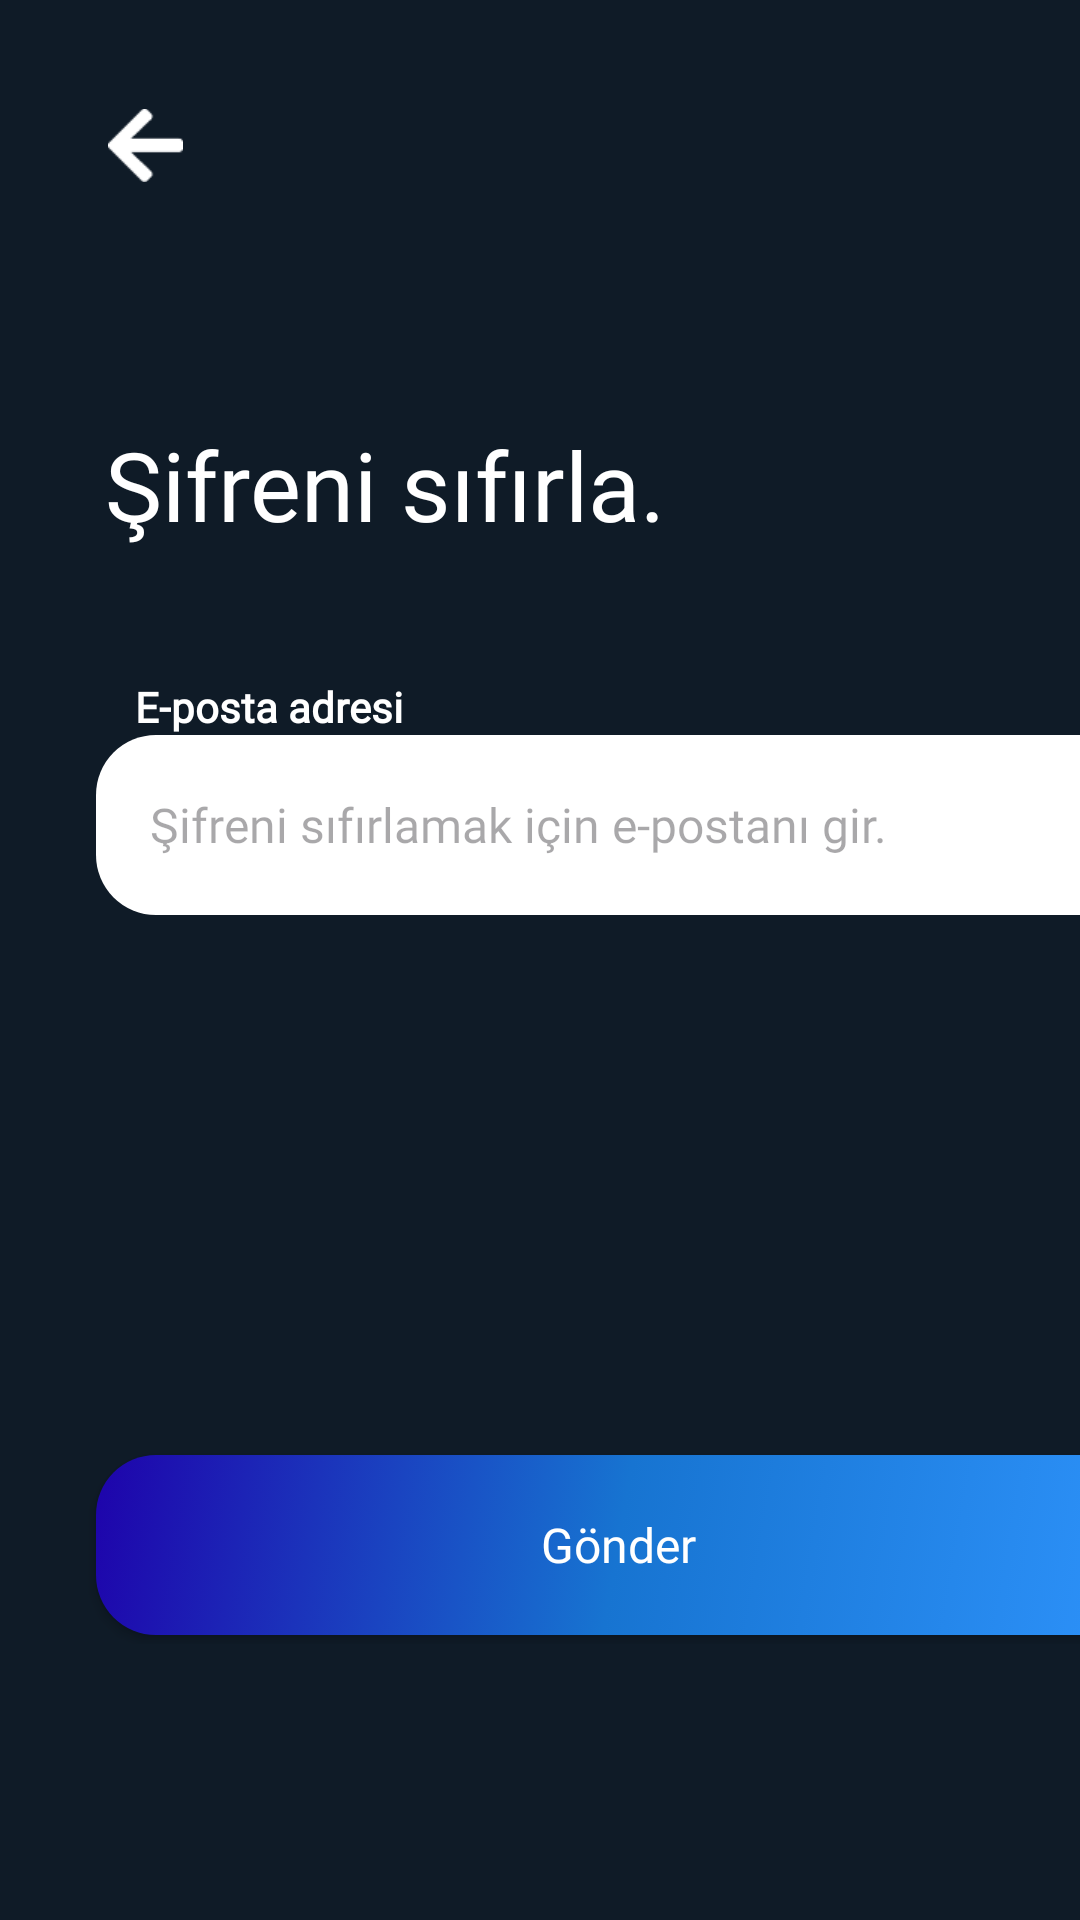

Icons on this 1080 x 1920 Android screen, each with the point to tap as [x,y]:
back: [145,145]
